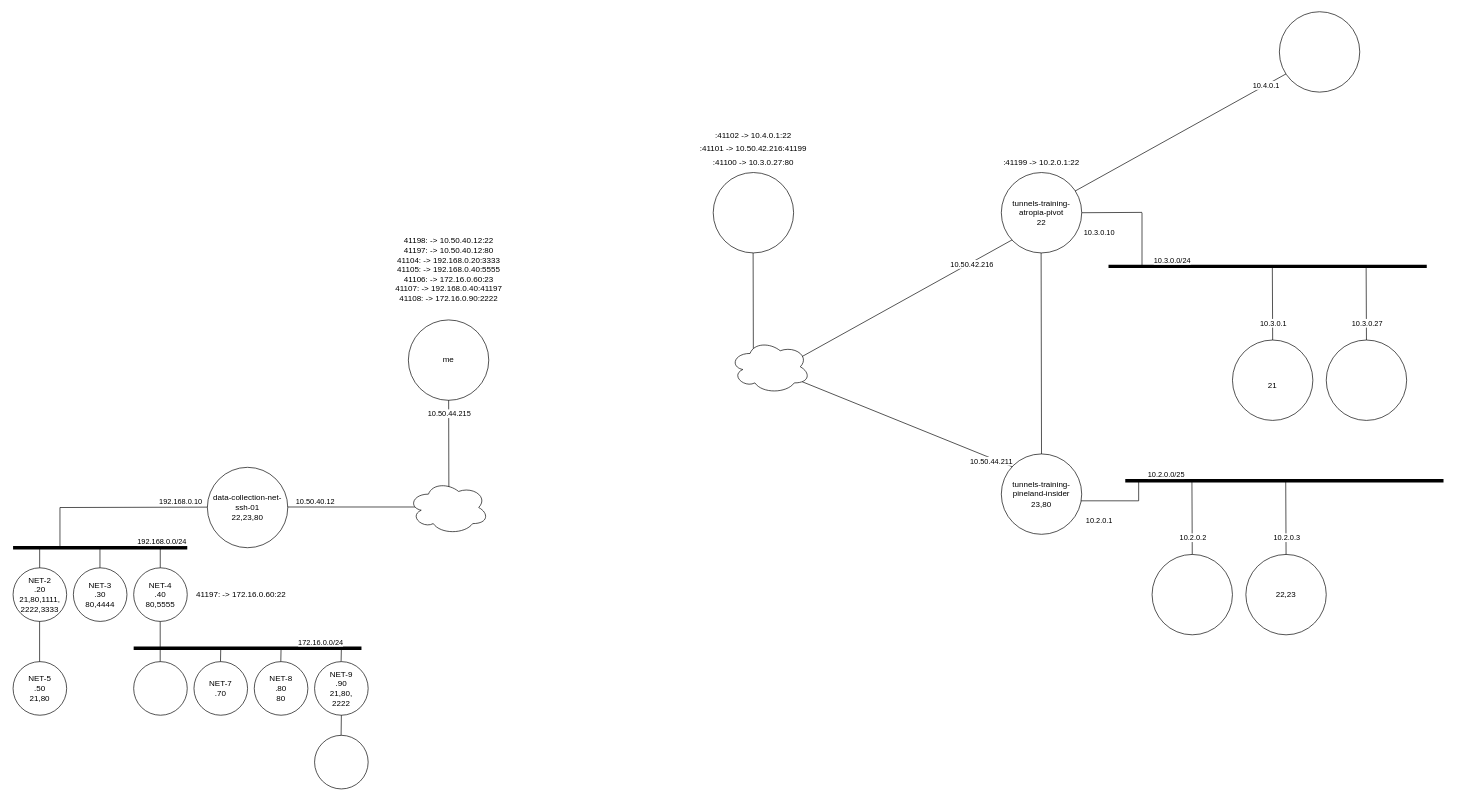
The diagram is 1457 pixels wide and 801 high, and some of its shapes have lost their labels. Each missing label, with the centre of its shape:
me 10.10.0.40: pixel 753 212
Mohammed 21: pixel 1191 594
NET-6 .60 21,23,80: pixel 160 688
NET-9 .100 23,80: pixel 341 762
tunnels-training-baja-republic-pivot 22: pixel 1319 51
Victoria 21 Cortina 80: pixel 1366 379
